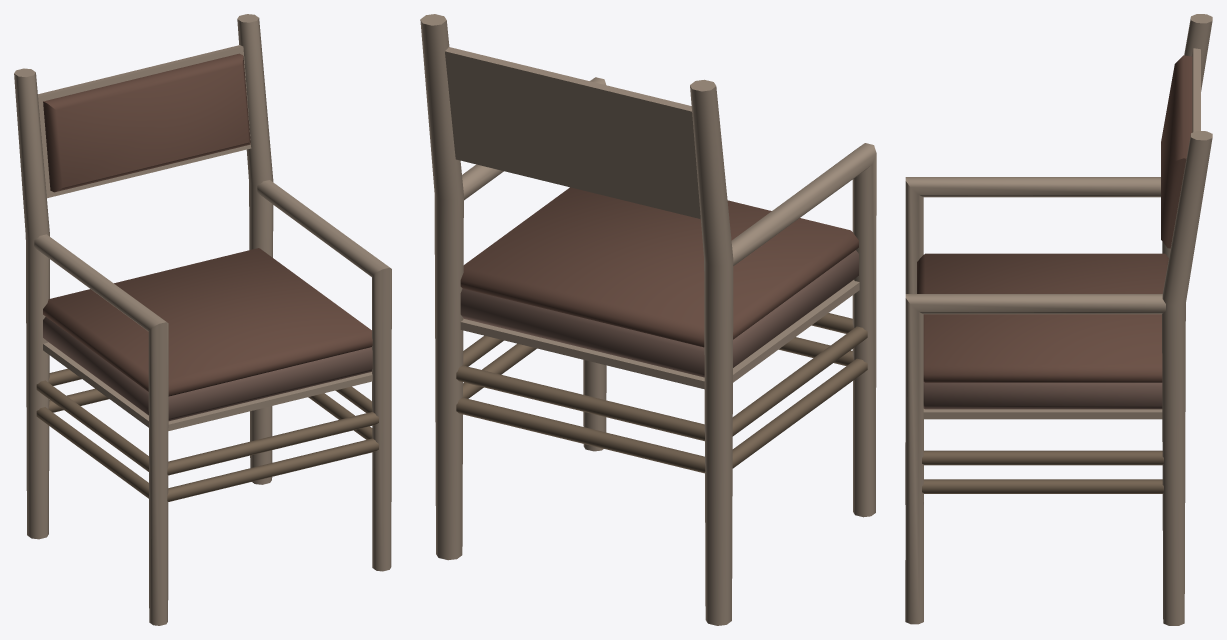
Rendered from chair020.glb.
3 renders of one model, left to right at view 1: azimuth 30°, elevation 25°; view 2: azimuth 150°, elevation 25°; view 3: azimuth 270°, elevation 25°, orthographic. The views are drawn at different scales.
Parts seen in each view (by area): view 1: chair.020; view 2: chair.020; view 3: chair.020.
Boxes of the visible parts, x1,y1,x2,y2 form: chair.020: [14, 14, 391, 625]; chair.020: [420, 14, 876, 625]; chair.020: [905, 14, 1212, 625].
Bounding box in the file's own units: 0.5514 × 0.983 × 0.5628.
1 material, 1 textured.
